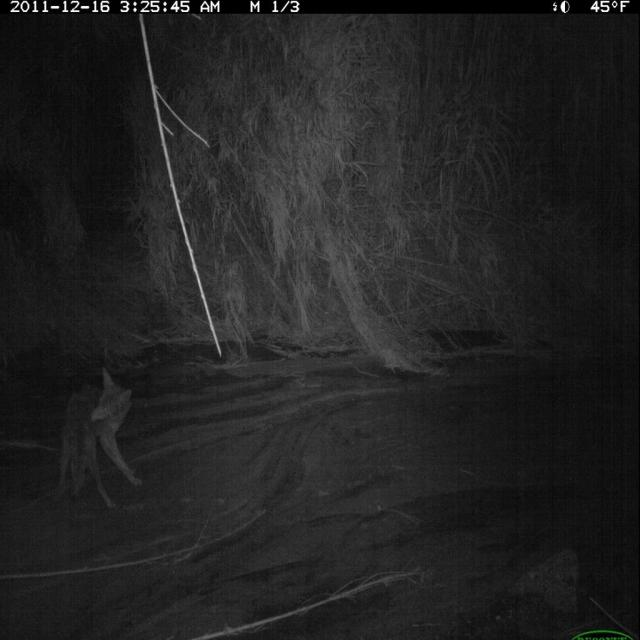coyote: (49, 367, 150, 520)
